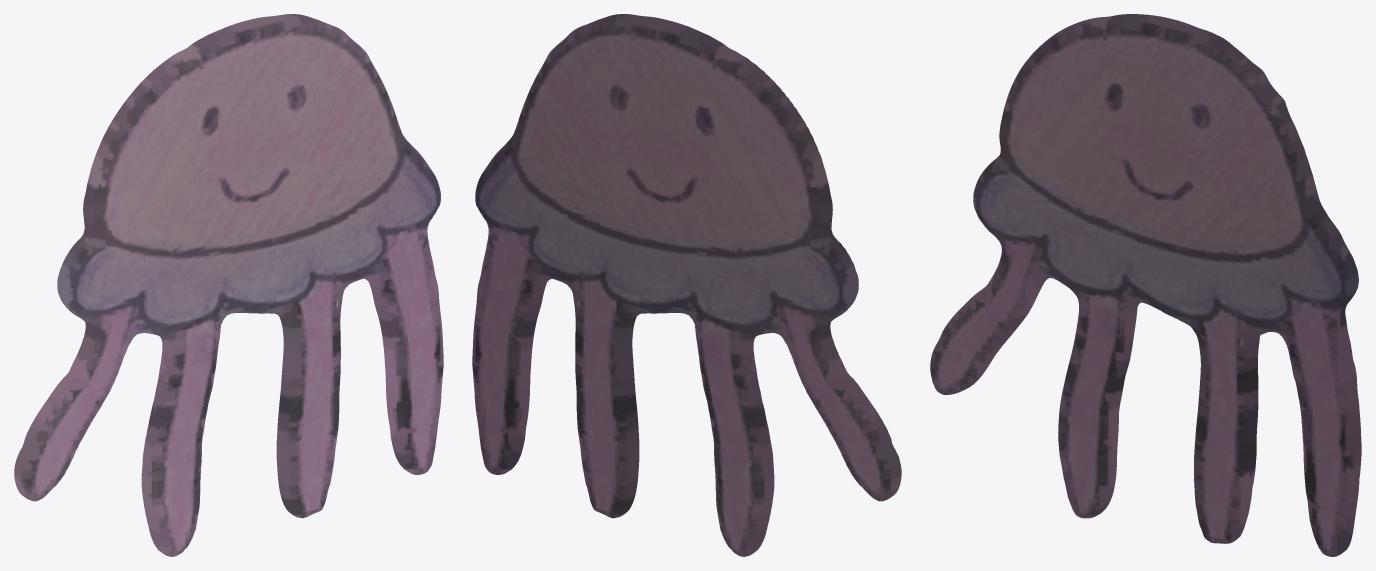
File: jellyfish.glb
3 views of the same model, side by side, from view 1: azimuth 30°, elevation 25°; view 2: azimuth 150°, elevation 25°; view 3: azimuth 330°, elevation 25° (orthographic).
Bounding box in the file's own units: 0.1853 × 0.214 × 0.0101.
